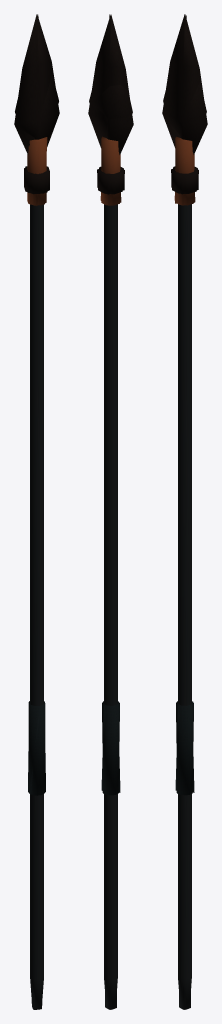
The picture shows the model from 3 angles, left to right: view 1: azimuth 30°, elevation 25°; view 2: azimuth 150°, elevation 25°; view 3: azimuth 330°, elevation 25°; orthographic projection.
Visible parts, largest first — view 1: body_lod1, body_lod2, body_lod3; view 2: body_lod1, body_lod2, body_lod3; view 3: body_lod1, body_lod2, body_lod3.
Boxes of the visible parts, left/top/right/bottom form: body_lod1: left=14, top=14, right=59, bottom=1009; body_lod2: left=15, top=15, right=58, bottom=1009; body_lod3: left=15, top=15, right=48, bottom=1009; body_lod1: left=88, top=14, right=133, bottom=1009; body_lod2: left=89, top=84, right=132, bottom=1009; body_lod3: left=97, top=14, right=132, bottom=1009; body_lod1: left=162, top=14, right=207, bottom=1009; body_lod2: left=163, top=15, right=206, bottom=1009; body_lod3: left=163, top=15, right=198, bottom=1009.
Bounding box in the file's own units: 15 × 313 × 7.6.
